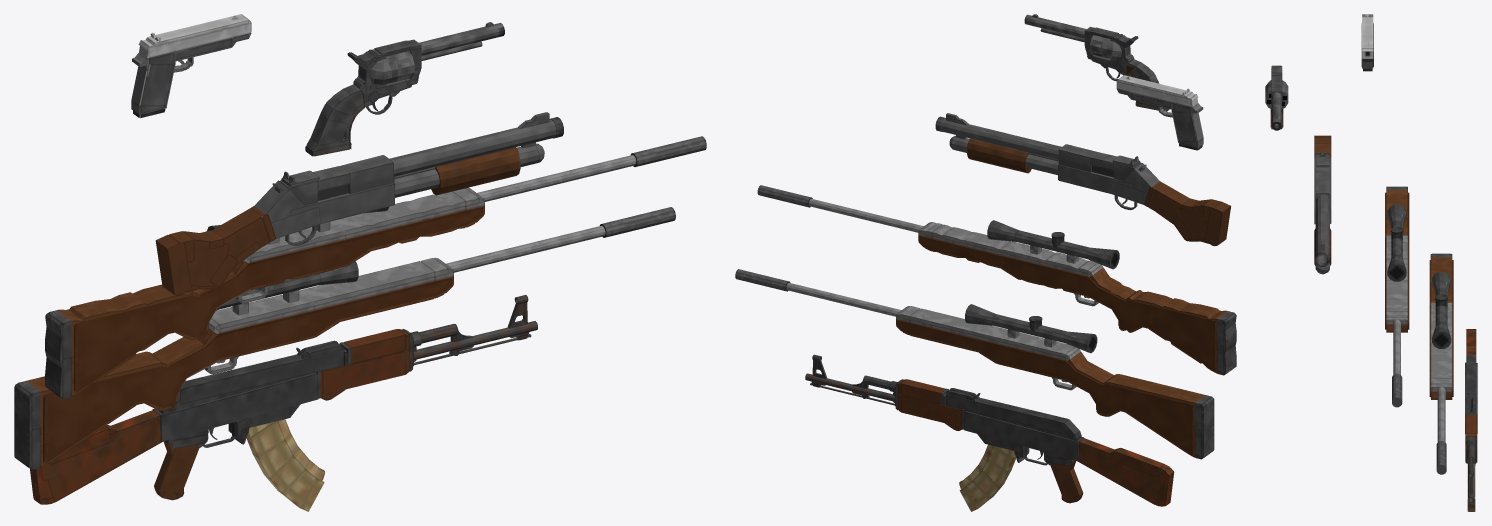
3 renders of one model, left to right at view 1: azimuth 30°, elevation 25°; view 2: azimuth 150°, elevation 25°; view 3: azimuth 270°, elevation 25°, orthographic. The views are drawn at different scales.
Visible parts, largest first — view 1: SniperDamaged, SniperNormal, AK47, Shotgun, Revolver, Pistol, Magazine; view 2: SniperDamaged, SniperNormal, AK47, Shotgun, Revolver, Pistol, Magazine; view 3: SniperDamaged, SniperNormal, Shotgun, AK47, Revolver, Pistol, Magazine_2.
Part boxes in pixels (x1,y1,x2,y2): SniperDamaged: (14, 207, 675, 469); SniperNormal: (45, 136, 706, 398); AK47: (30, 295, 537, 504); Shotgun: (155, 112, 563, 295); Revolver: (305, 22, 504, 156); Pistol: (131, 14, 251, 114); Magazine: (246, 419, 324, 511); SniperDamaged: (735, 269, 1214, 459); SniperNormal: (757, 185, 1236, 375); AK47: (805, 354, 1174, 506); Shotgun: (935, 113, 1231, 246); Revolver: (1024, 14, 1166, 110); Pistol: (1116, 75, 1203, 147); Magazine: (959, 444, 1015, 511); SniperDamaged: (1429, 253, 1453, 474); SniperNormal: (1385, 186, 1409, 407); Shotgun: (1314, 135, 1331, 274); AK47: (1465, 329, 1477, 505); Revolver: (1265, 65, 1288, 130); Pistol: (1361, 14, 1373, 68); Magazine_2: (1265, 83, 1288, 108).
Bounding box in the file's own units: 114 × 97.35 × 44.69.
9 materials, 9 textured.
